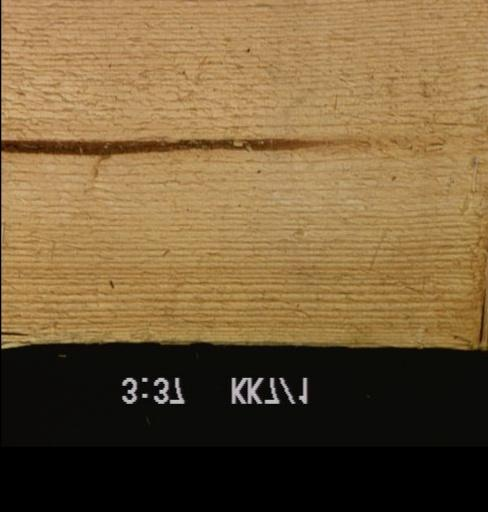split: (0, 327, 31, 337)
